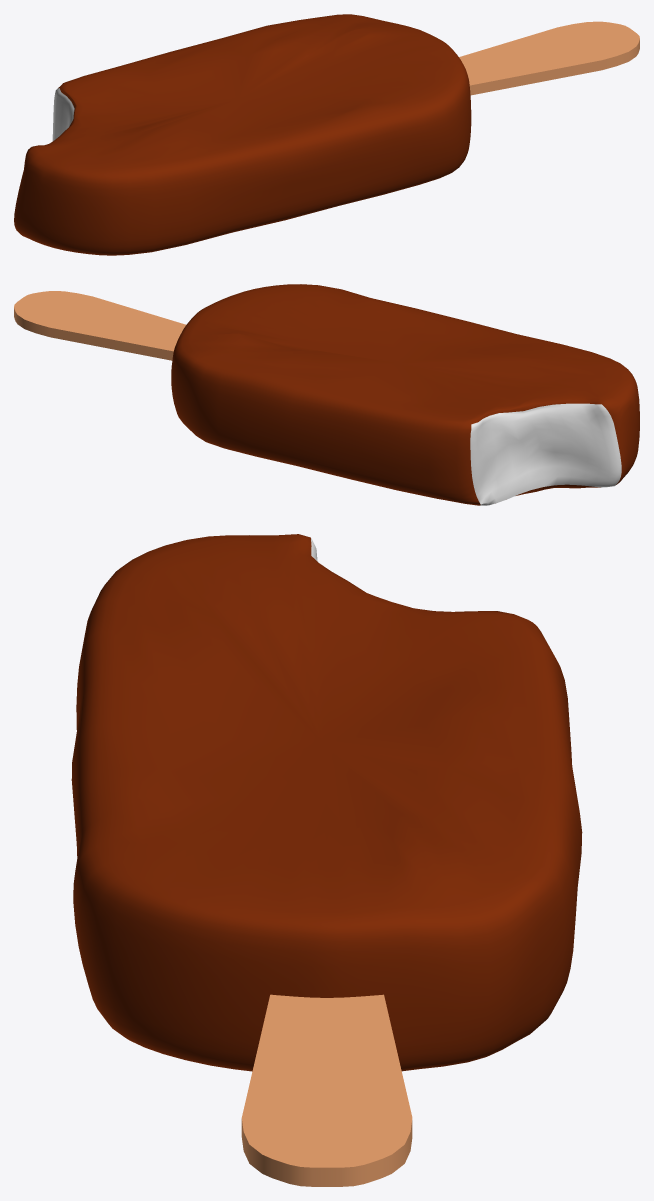
Rendered from Ice_Cream_01_.fbx.
3 renders of one model, top to bottom at view 1: azimuth 30°, elevation 25°; view 2: azimuth 150°, elevation 25°; view 3: azimuth 270°, elevation 25°, orthographic. The views are drawn at different scales.
Parts seen in each view (by area): view 1: Cube.001, stik; view 2: Cube.001, stik; view 3: Cube.001, stik.
Part boxes in pixels (x1=…): Cube.001: x1=14, y1=14, x2=471, y2=255; stik: x1=459, y1=21, x2=639, y2=95; Cube.001: x1=171, y1=284, x2=639, y2=505; stik: x1=14, y1=291, x2=186, y2=360; Cube.001: x1=71, y1=534, x2=582, y2=1071; stik: x1=241, y1=994, x2=412, y2=1186.
Size of the model in its own units: 111 by 18.79 by 41.29.
